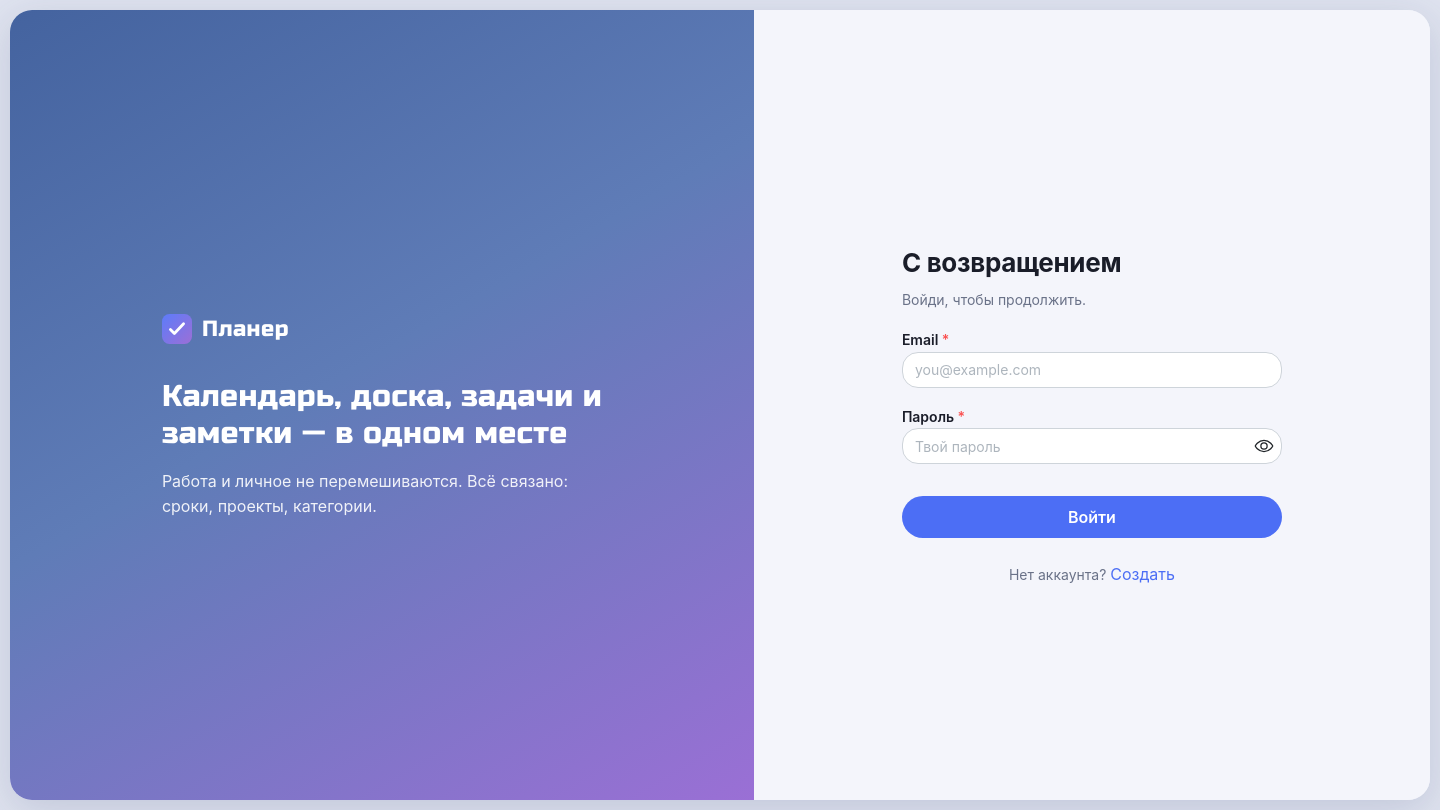
Test: AuthScreen › ошибка входа: показывает detail с сервера
The width and height of the screenshot is (1440, 810).
Type "a@e.com" into the field labelled "Email *" at (1092, 370), box [902,352,1282,388]
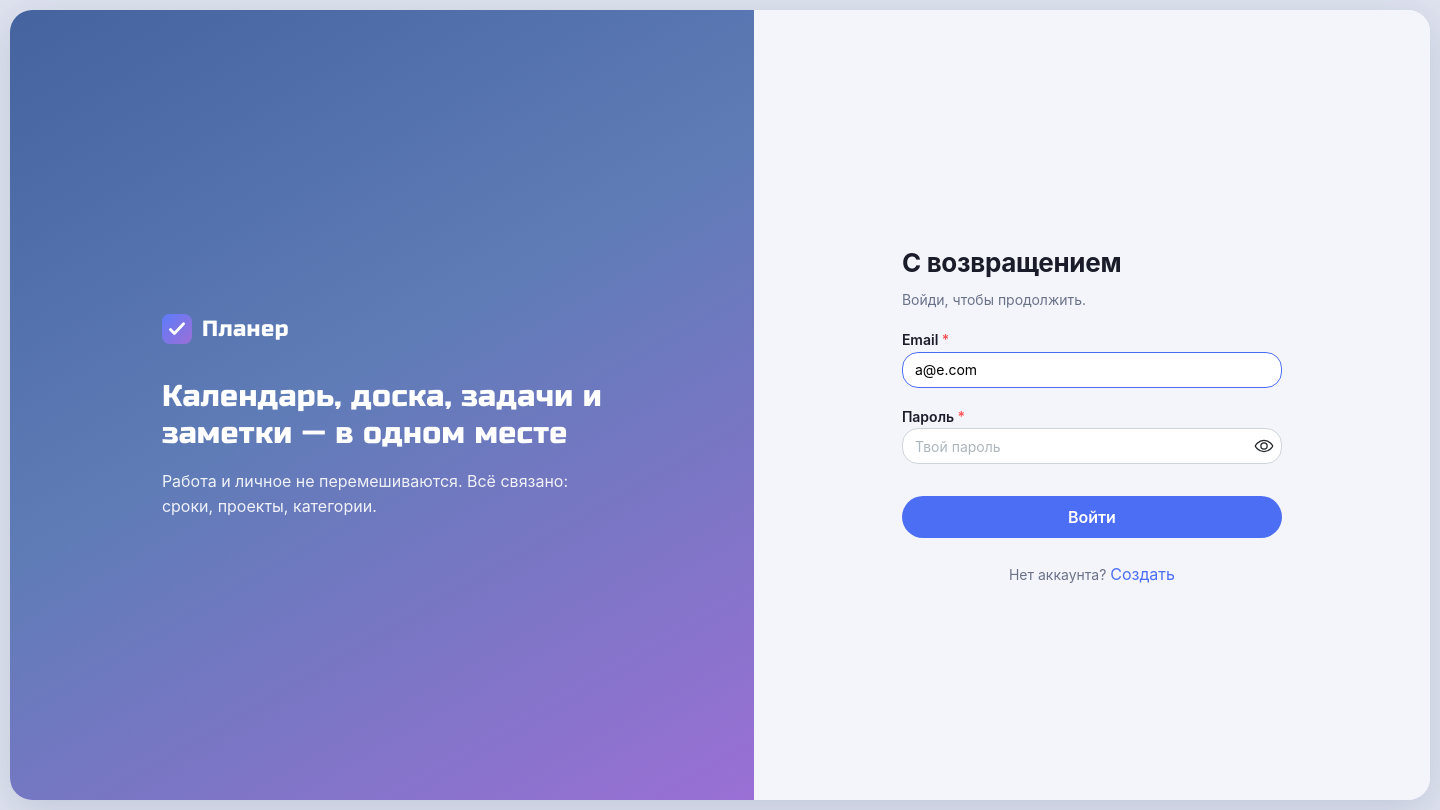
Type "bad" into the password field labelled "Пароль *" at (1092, 446), box [903,429,1281,463]
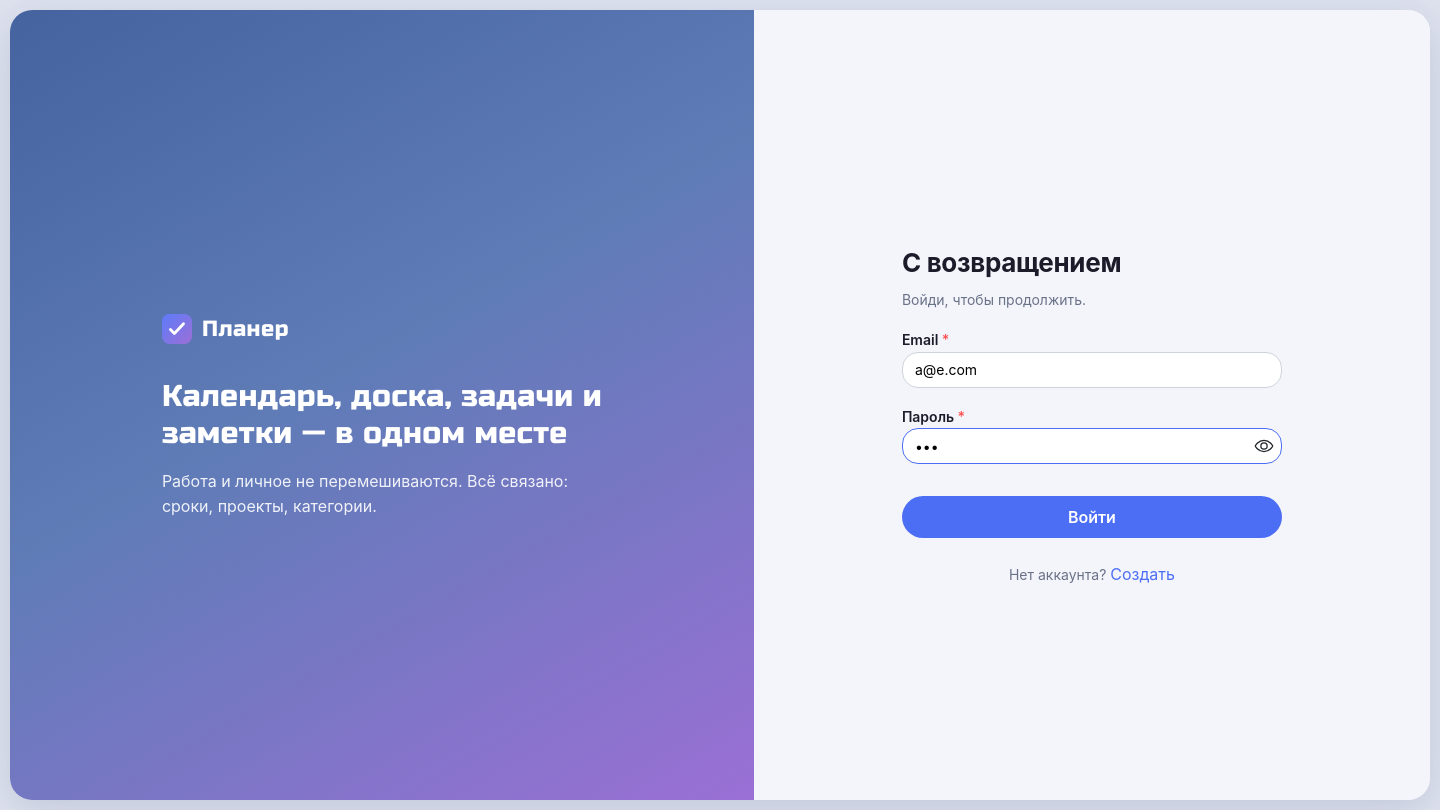
Click the button "Войти" at (1092, 517), box [902,496,1282,538]
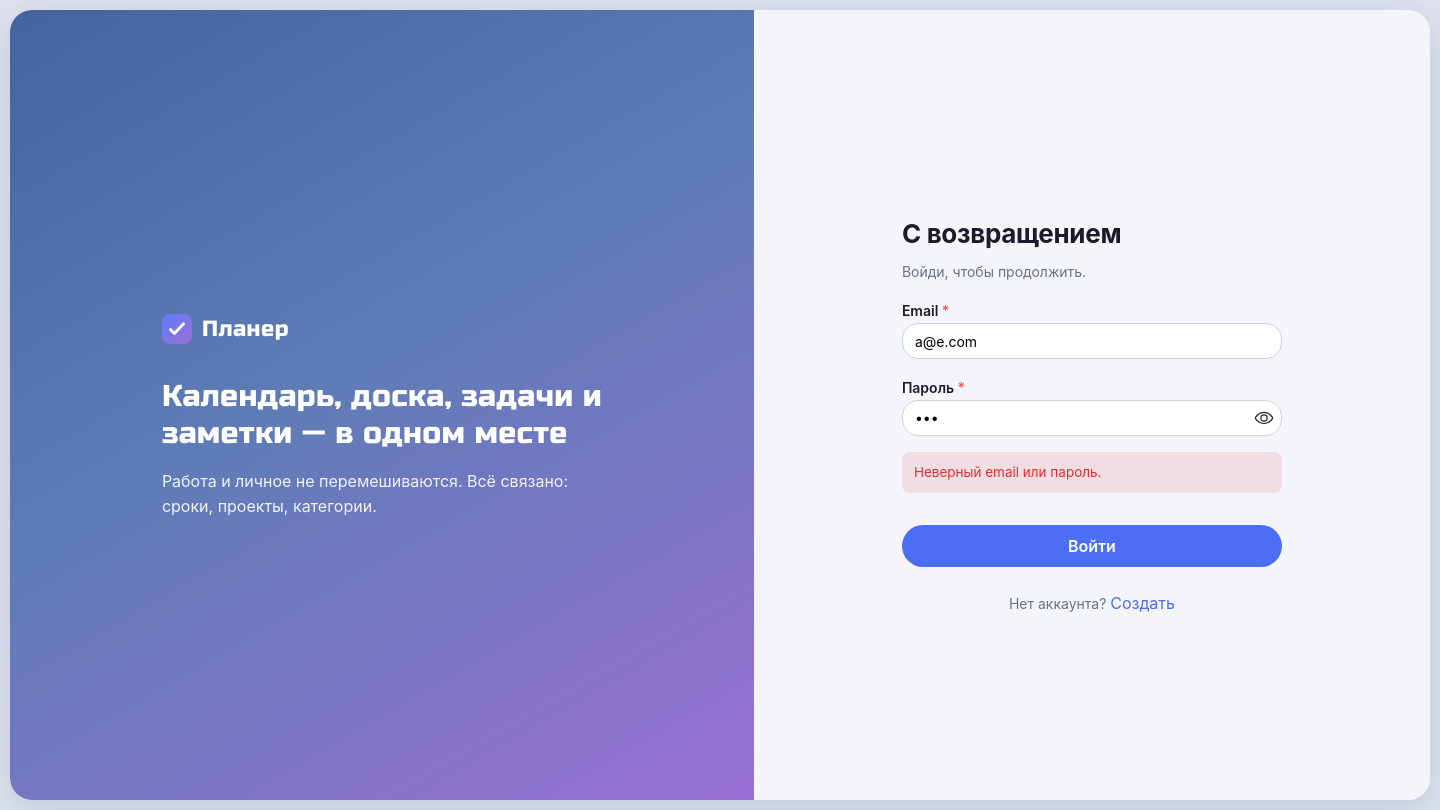
Check: the button "Войти" is enabled, box [902,525,1282,567]
Check: the text "Неверный email или пароль." is shown, box [902,452,1282,493]
